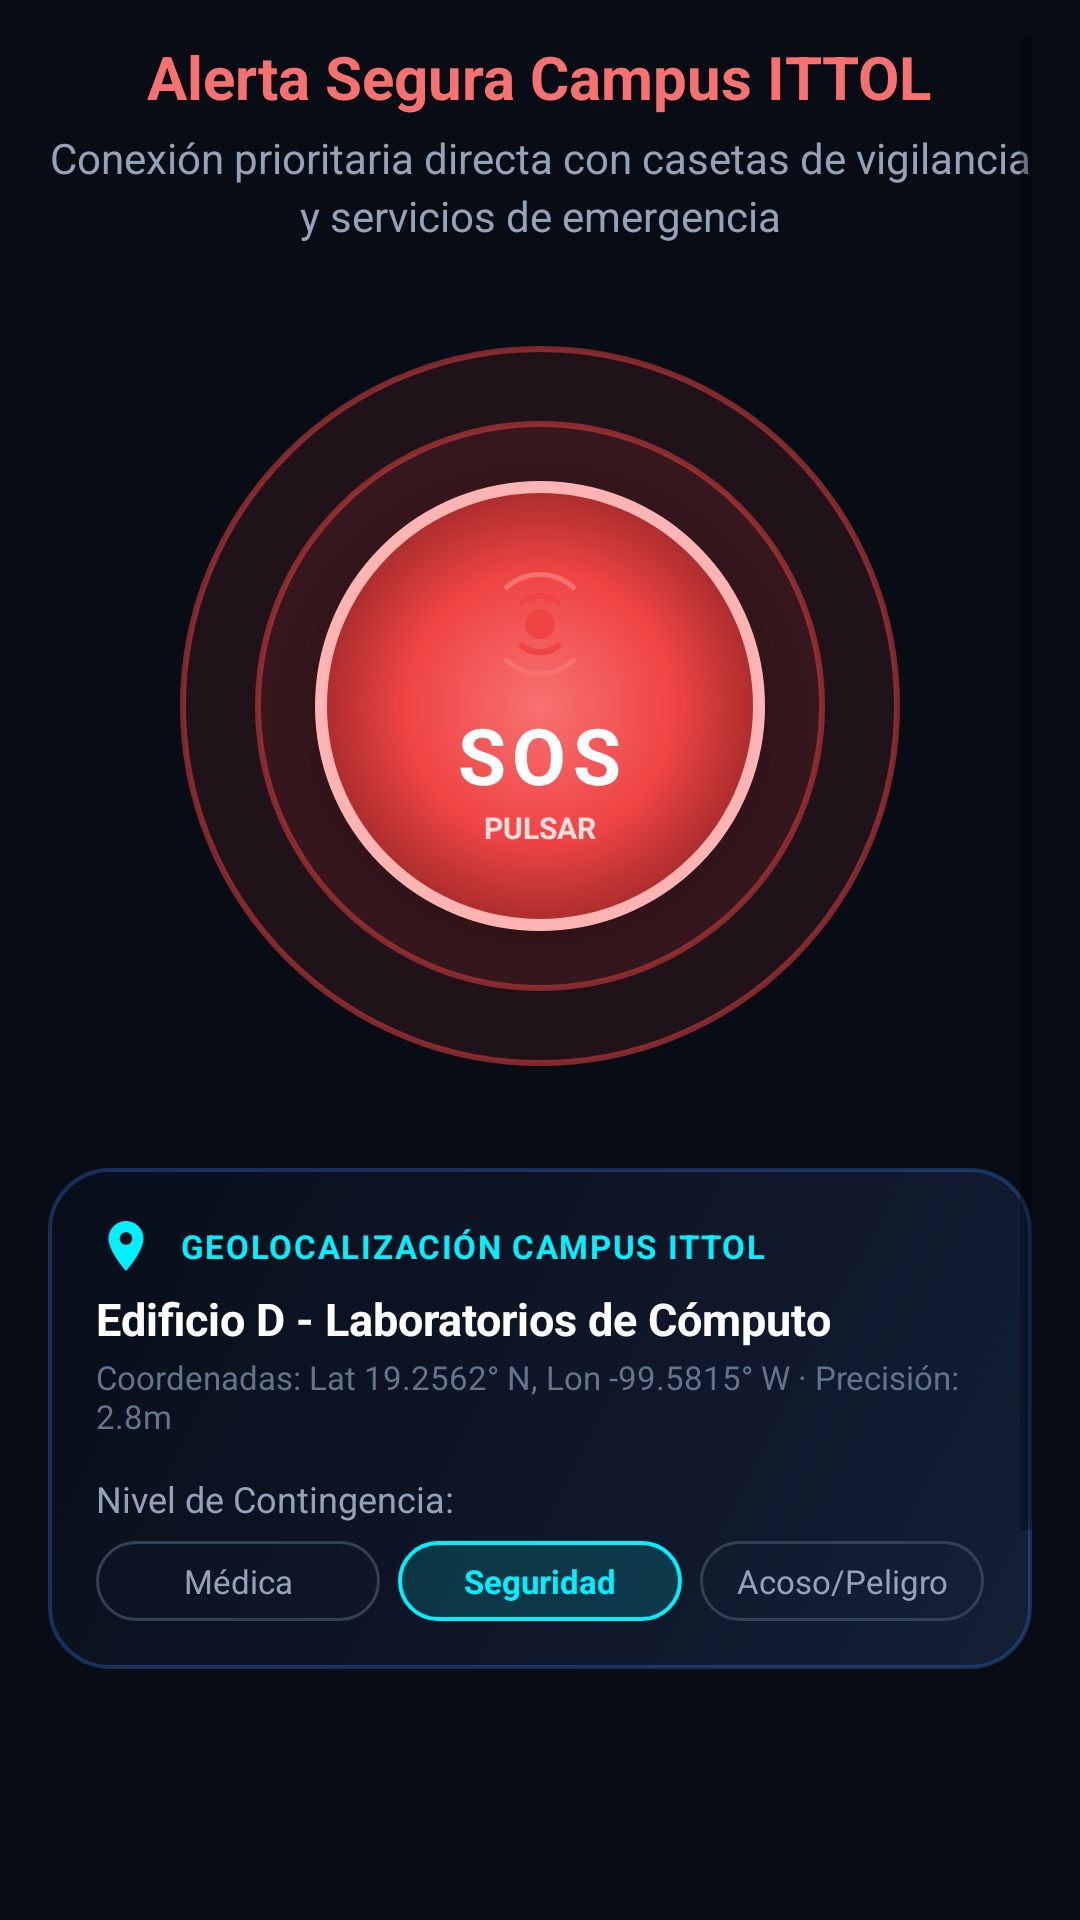

Screen size 1080 × 1920. Icon name, then its center in pixels as [x,y]:
Alarma de Pánico: [540,626]
GPS: [126,1246]
